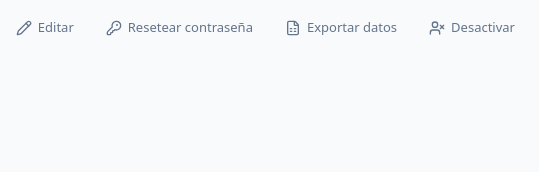
UserRowActions › shows an inline error when deactivating fails
Click the button "Desactivar". click: click(472, 28)
box: [417, 12, 527, 44]
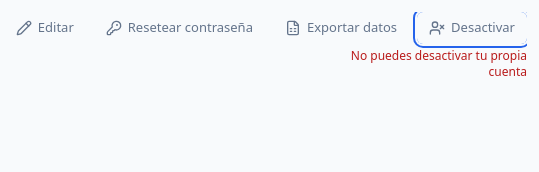
Now the text "No puedes desactivar tu propia cuenta" is shown, box [335, 48, 527, 80]
